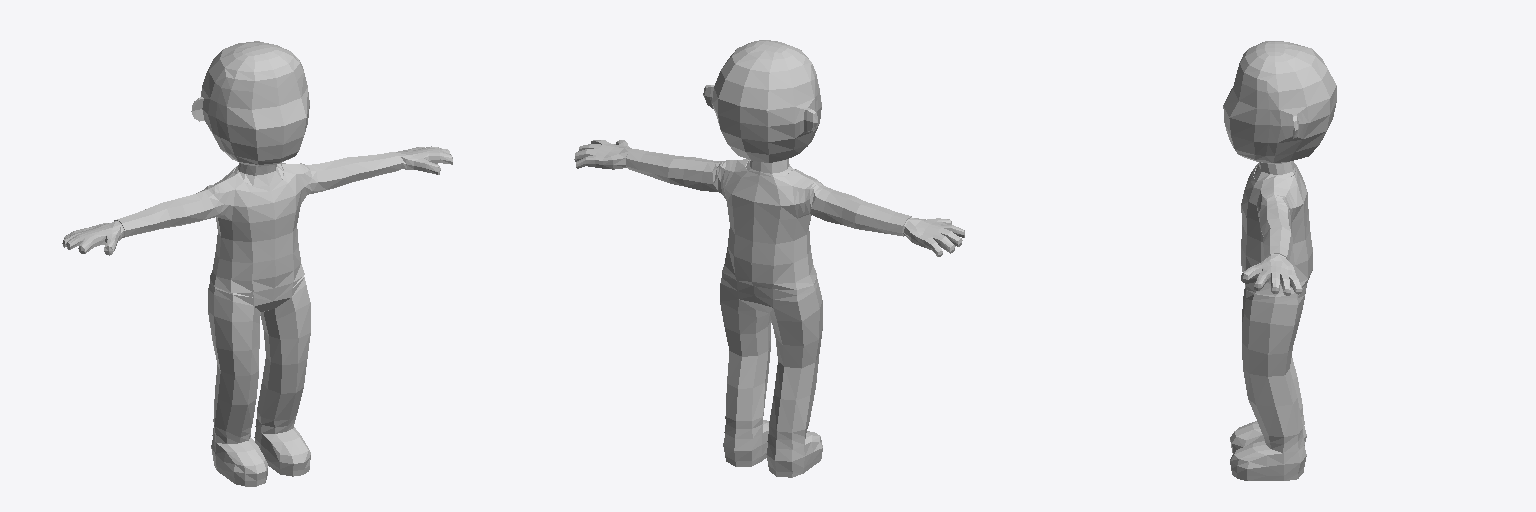
The model's file is Avatar_modified.obj.
3 views of the same model, side by side, from view 1: azimuth 30°, elevation 25°; view 2: azimuth 150°, elevation 25°; view 3: azimuth 270°, elevation 25° (orthographic).
Visible parts, largest first — view 1: Avatar_v1-1; view 2: Avatar_v1-1; view 3: Avatar_v1-1.
Part boxes in pixels (x1,y1,x2,y2): Avatar_v1-1: (62, 41, 452, 486); Avatar_v1-1: (574, 40, 964, 477); Avatar_v1-1: (1223, 41, 1336, 480).
Bounding box in the file's own units: 8.92 × 9.3 × 2.3.